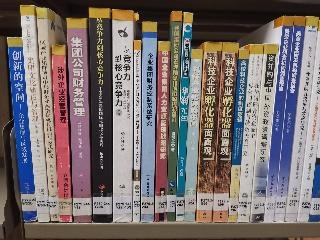book-spine: (271, 15, 308, 224), (284, 16, 319, 223), (19, 5, 51, 223), (262, 15, 295, 223), (291, 20, 320, 225), (7, 37, 38, 224), (248, 43, 280, 224), (66, 18, 92, 223), (89, 6, 113, 224), (236, 42, 263, 224), (212, 43, 239, 224), (36, 7, 58, 223), (112, 10, 134, 224), (196, 42, 221, 223), (174, 12, 193, 222), (51, 45, 73, 224), (138, 21, 157, 223), (227, 49, 249, 223), (165, 11, 183, 223), (184, 49, 203, 223), (153, 41, 170, 221), (130, 38, 142, 223)
